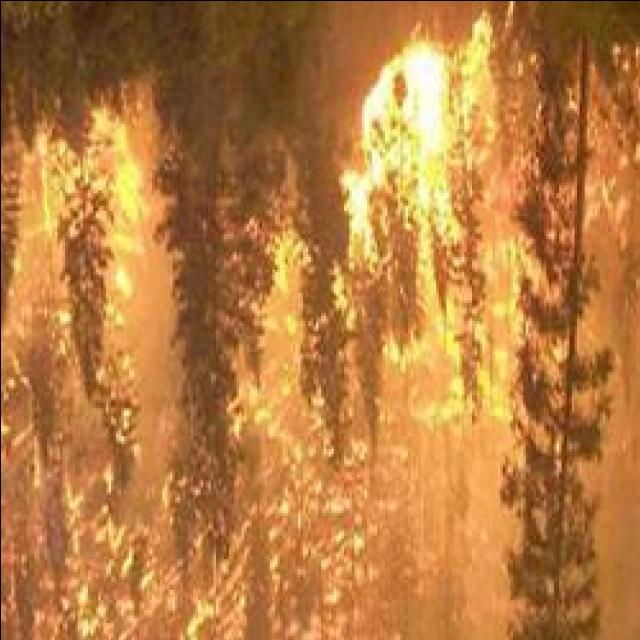fire: (340, 43, 440, 259), (82, 116, 158, 356), (34, 141, 60, 224)
